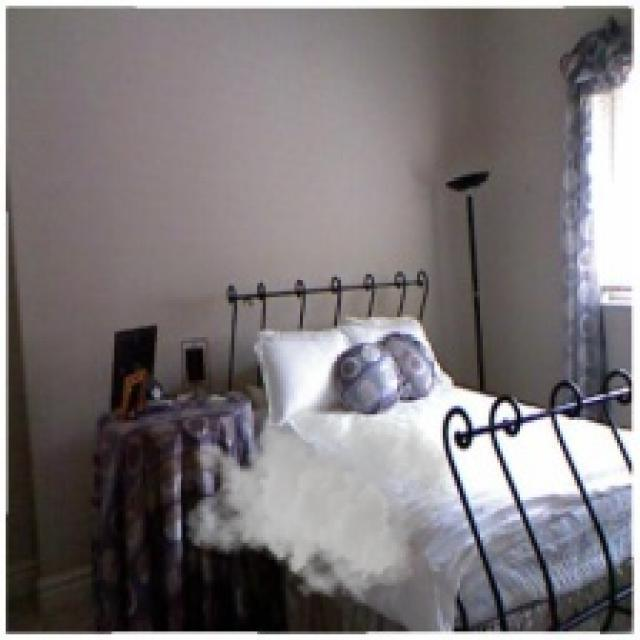Smoke: (182, 380, 452, 606)
